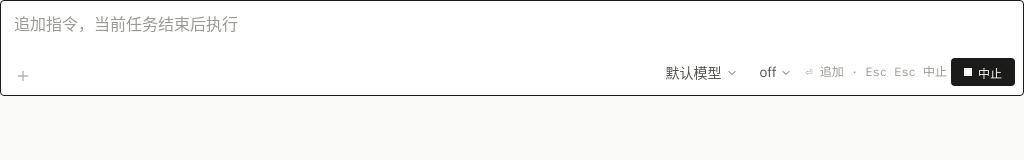
Scenario: composer completion menus › keeps a command typed during a run and explains why
The image size is (1024, 160).
Type "/compact" into the text box with test id "composer-input" at {"x": 512, "y": 28}, box [9,8,1015,48]
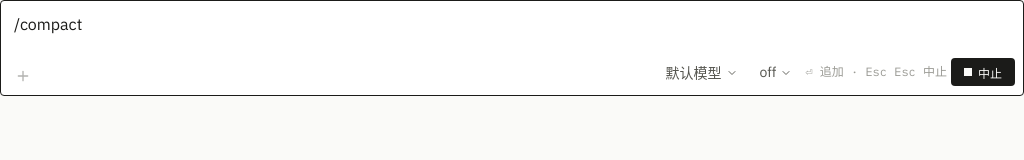
Press Enter in the text box with test id "composer-input", box [9,8,1015,48]
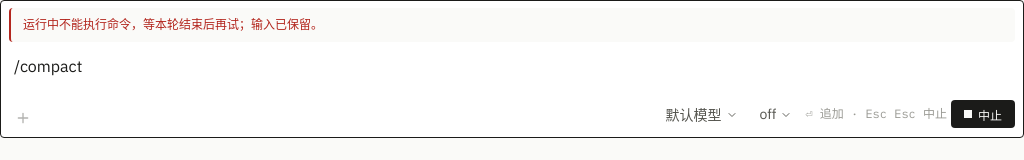
Now the message with test id "composer-submit-notice" shows "运行中不能执行命令", box [23,17,323,32]
